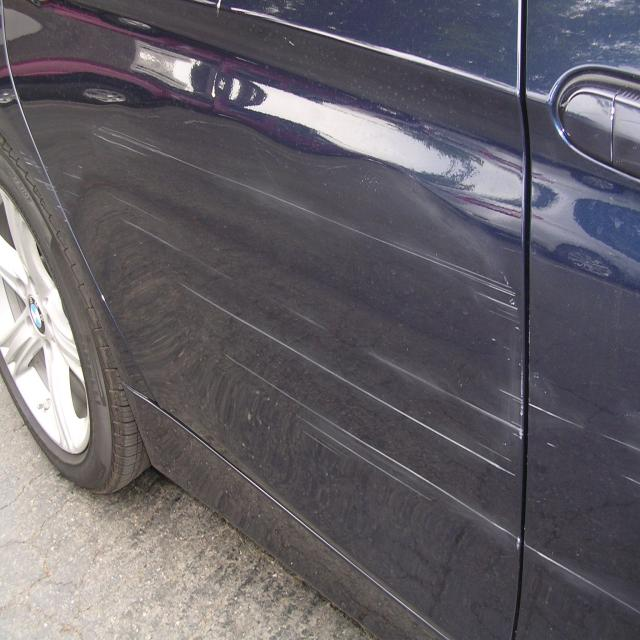scratch: (213, 347, 640, 615), (121, 217, 523, 442), (91, 124, 522, 331), (175, 277, 518, 483), (529, 403, 640, 453), (18, 151, 82, 226), (108, 189, 167, 224), (621, 473, 640, 487), (545, 441, 559, 450)
